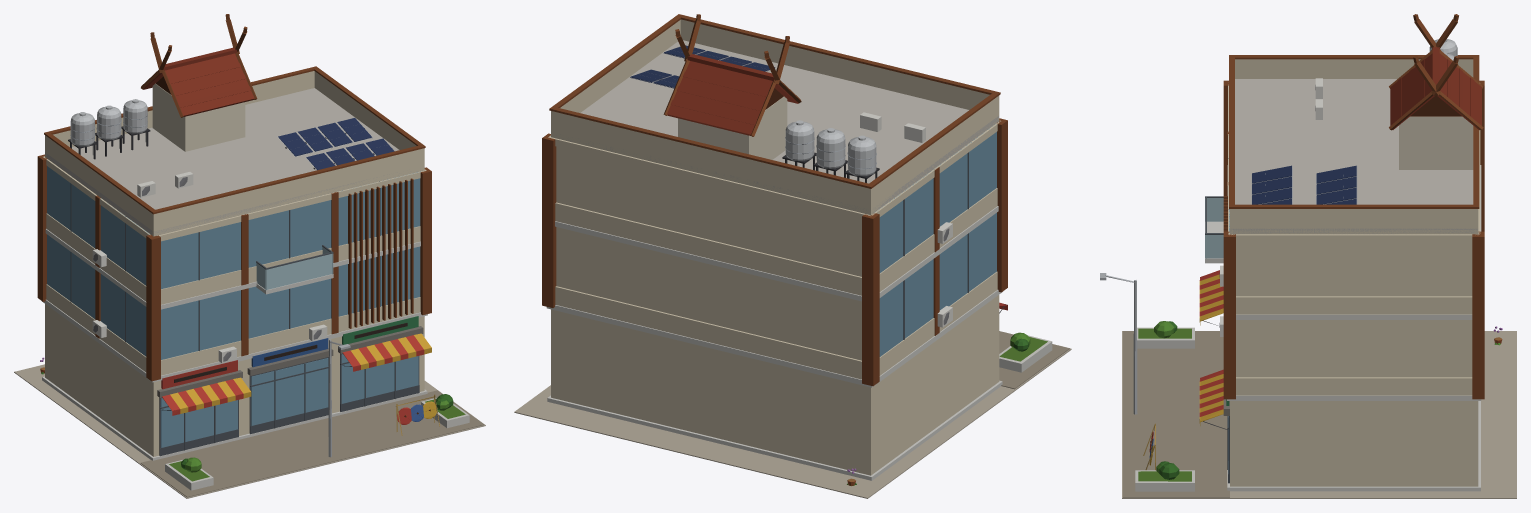
The model's file is shop_2.glb.
3 renders of one model, left to right at view 1: azimuth 30°, elevation 25°; view 2: azimuth 150°, elevation 25°; view 3: azimuth 270°, elevation 25°, orthographic. The views are drawn at different scales.
Visible parts, largest first — view 1: body; view 2: body; view 3: body.
Part boxes in pixels (x1,y1,x2,y2): body: (14,14,485,498); body: (514,14,1071,498); body: (1100,14,1516,498).
Bounding box in the file's own units: 15.9 × 17.09 × 16.78.
